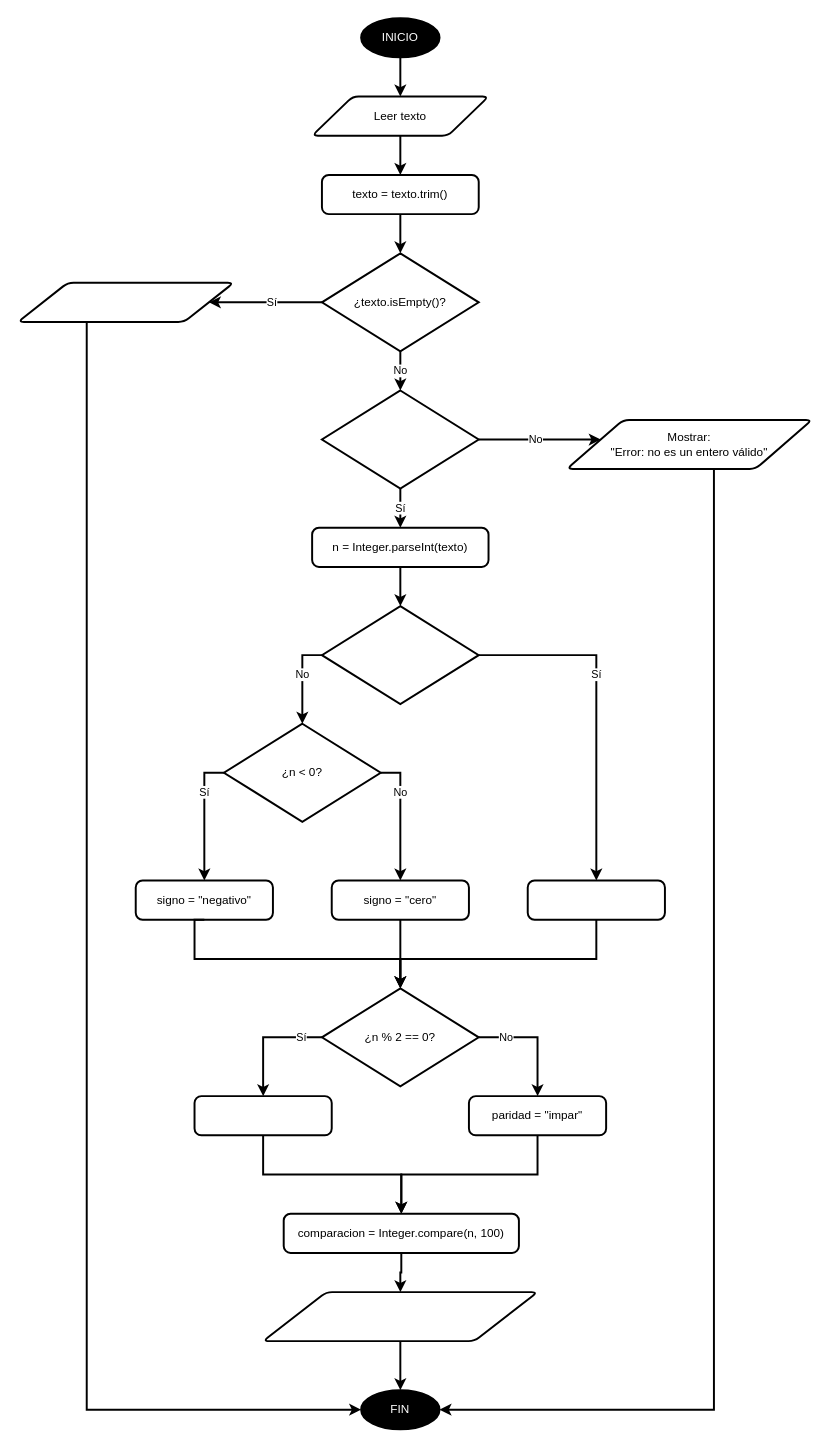
The diagram is 829 pixels wide and 1446 high, and some of its shapes have lost their labels. The centre of each missing label's shape, as x and y in pixels:
Mostrar: "Error: texto vacío": [125,301]
Mostrar: n, signo, paridad y comparacion: [400,1316]
paridad = "par": [262,1115]
signo = "positivo": [595,899]
¿n > 0?: [399,655]
¿Se puede convertir con Integer.parseInt()?: [399,439]
